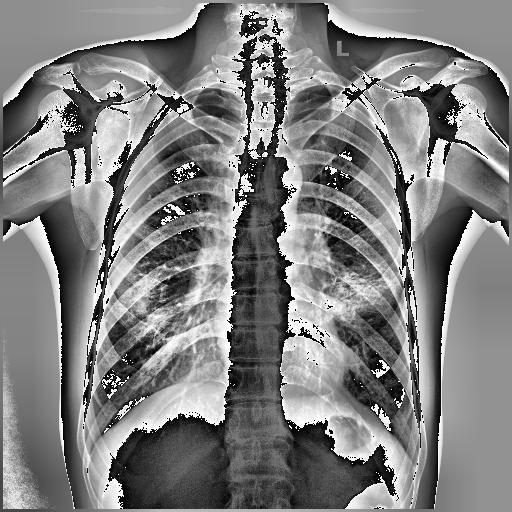11- Pleural thickening: (294, 82, 366, 108)
4- Consolidation: (310, 254, 398, 324), (326, 258, 402, 325)
6- Infiltration: (114, 261, 208, 356), (322, 265, 400, 322)
7- Lung Opacity: (326, 258, 402, 325), (322, 265, 400, 322), (119, 262, 171, 340), (122, 262, 160, 344)
